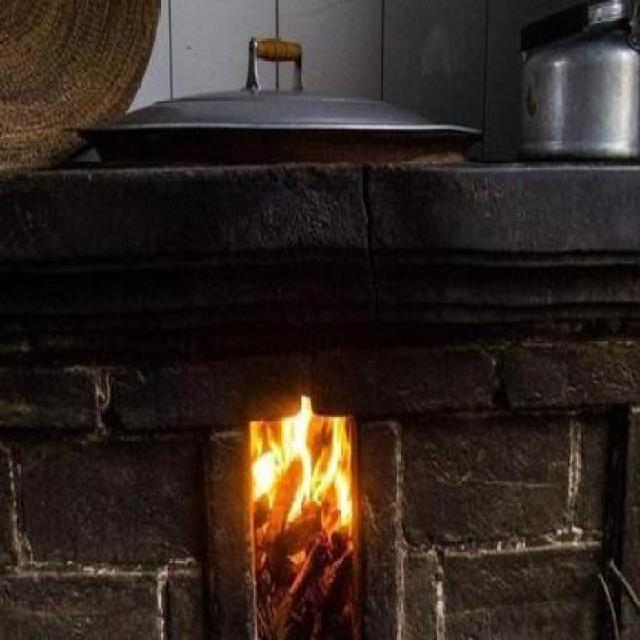Fire: (238, 384, 373, 634)
